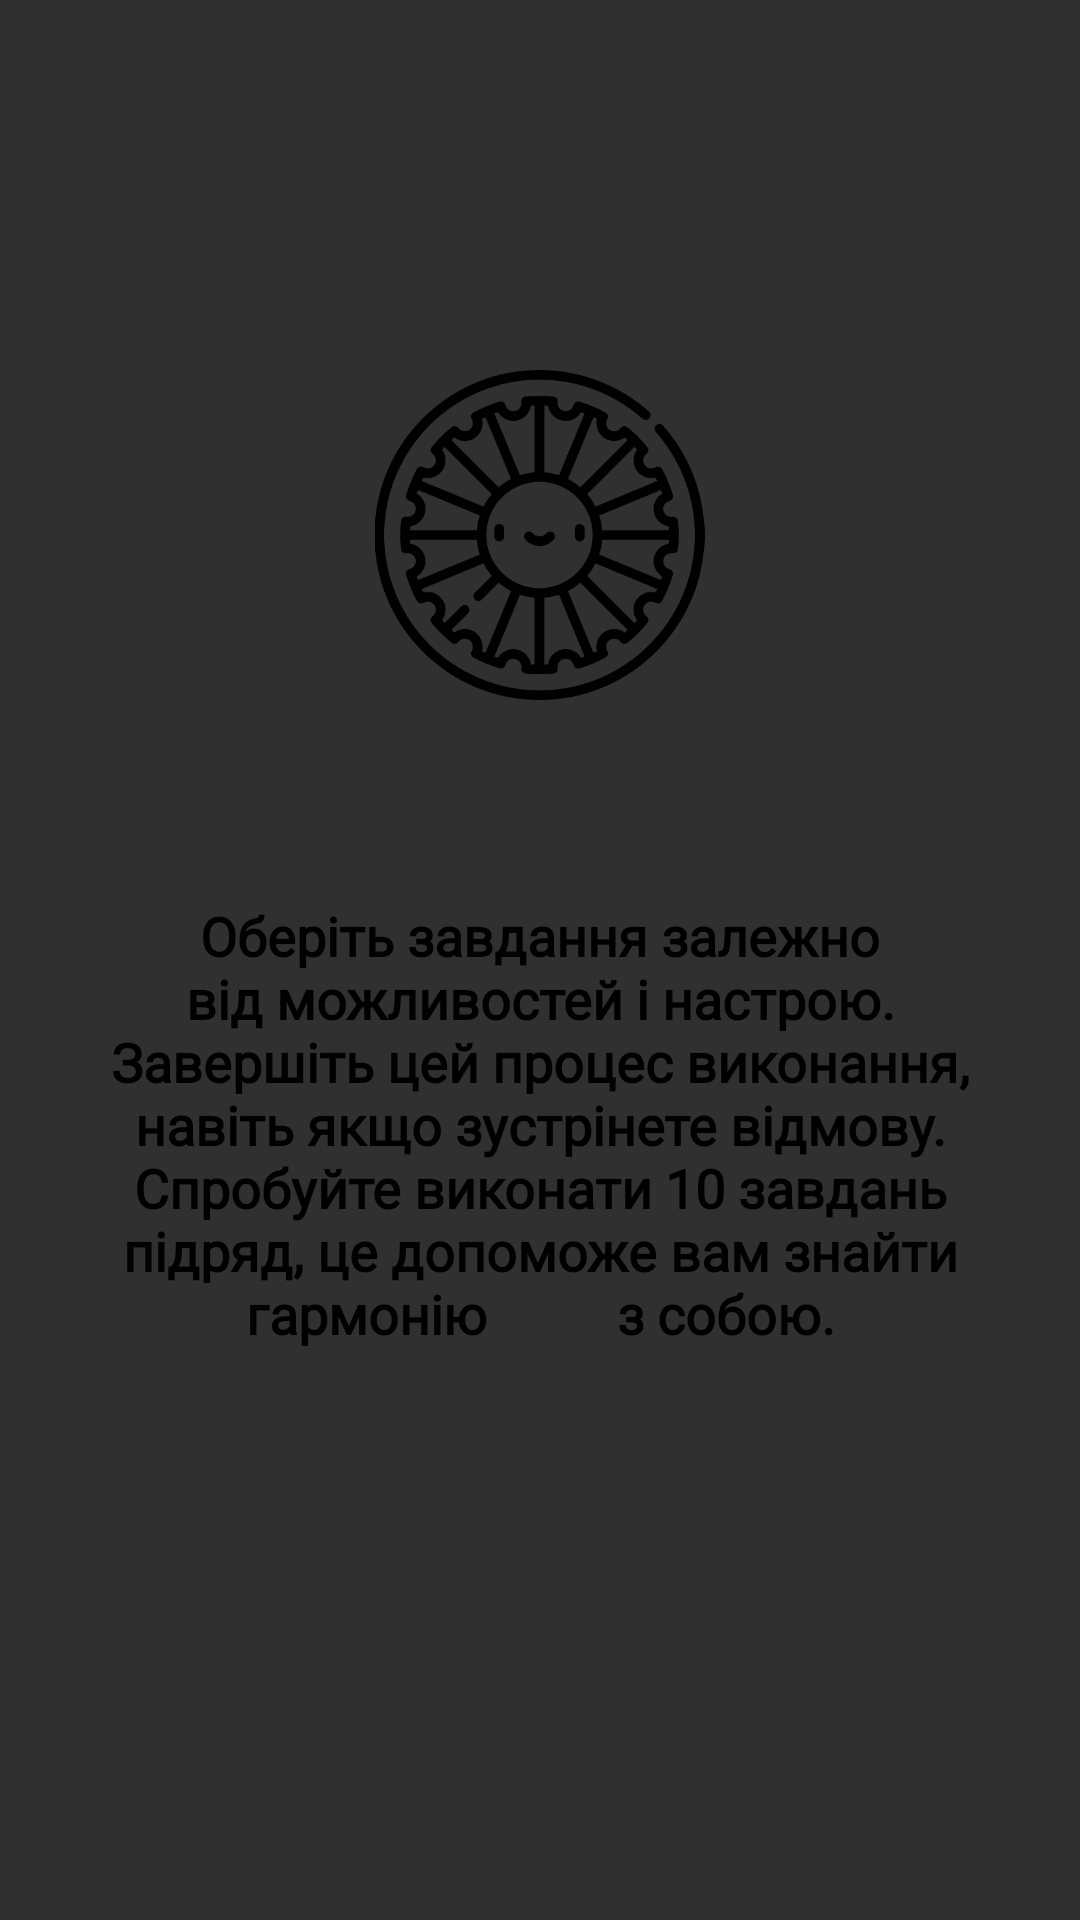

Icons on this 1080x1920 Android screen, each with the point to tap as (x=x, y=y):
chakra: (x=540, y=535)
